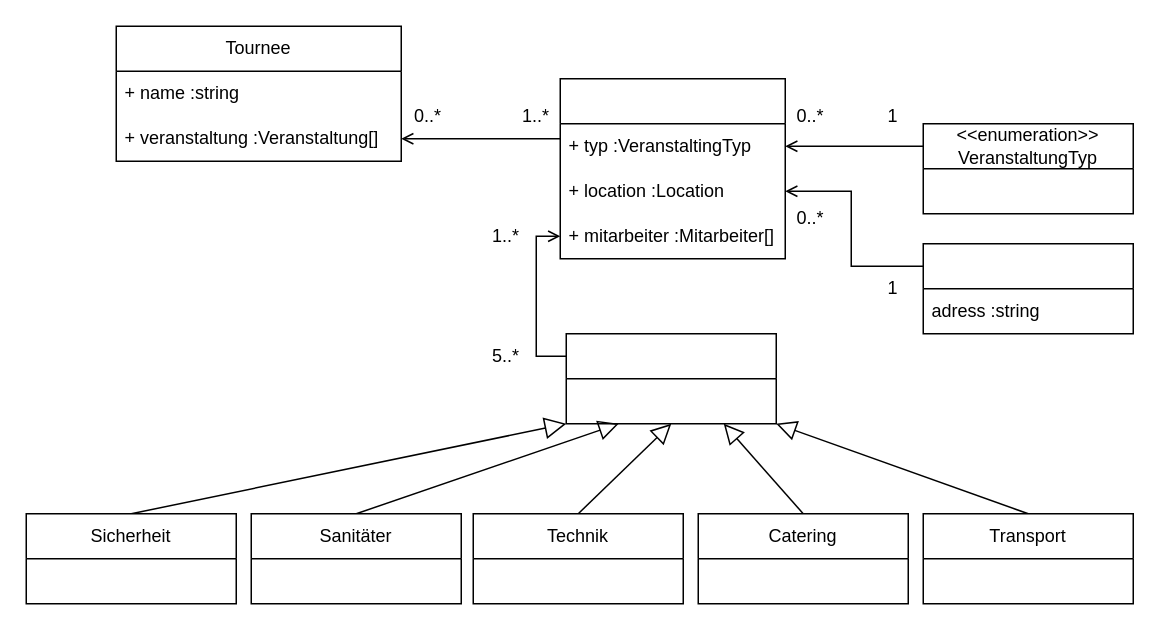
The diagram is 1160 pixels wide and 630 high, and some of its shapes have lost their labels. The shapes that lost their labels are listed below. From the top down, each one's box as (x1, y1, x2, y2) in pixels, then its label:
(559, 77, 785, 259): Veranstaltung
(922, 242, 1133, 334): Location
(565, 332, 776, 424): Mitarbeiter <<abstract>>
